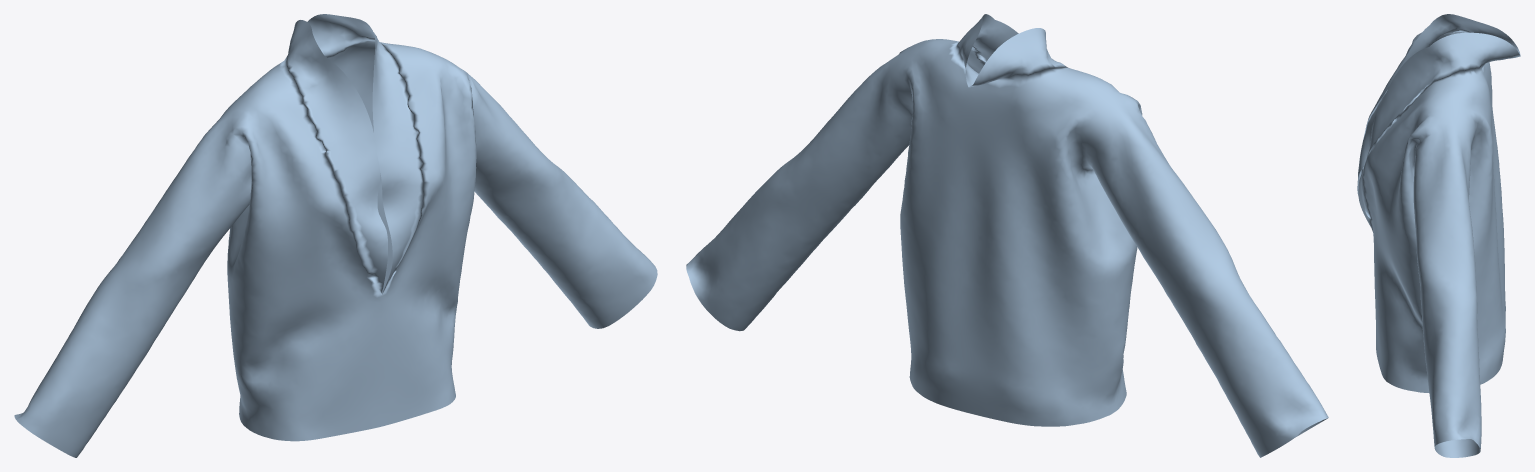
The model's file is jacket_XS.glb.
3 renders of one model, left to right at view 1: azimuth 30°, elevation 25°; view 2: azimuth 150°, elevation 25°; view 3: azimuth 270°, elevation 25°, orthographic. The views are drawn at different scales.
Parts seen in each view (by area): view 1: geometry_0; view 2: geometry_0; view 3: geometry_0.
Boxes of the visible parts, x1,y1,x2,y2 form: geometry_0: (14, 14, 657, 457); geometry_0: (686, 14, 1328, 457); geometry_0: (1357, 14, 1520, 457).
Size of the model in its own units: 1.16 by 0.6505 by 0.2944.
